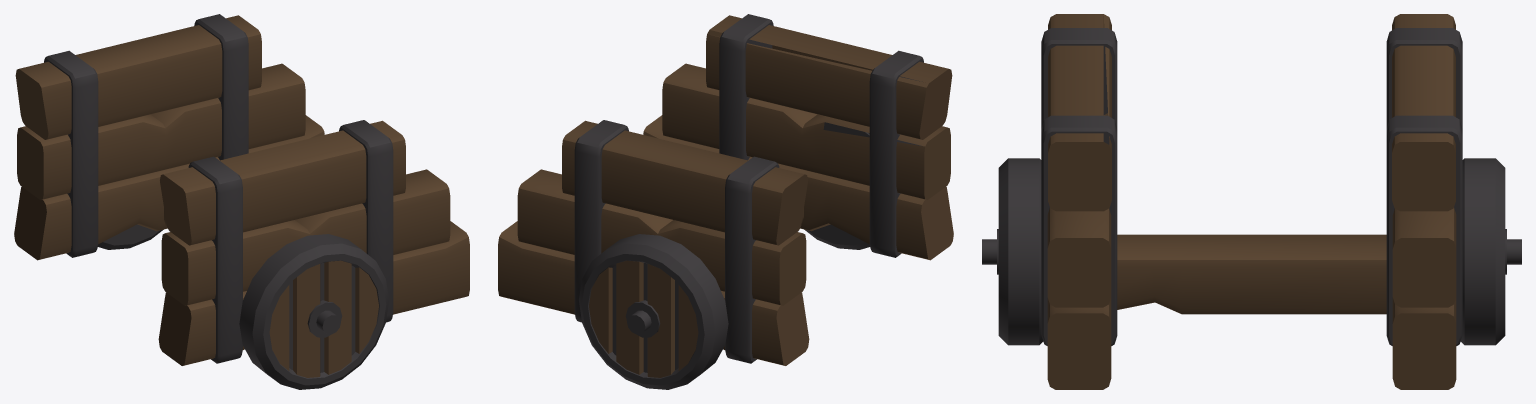
File: cannon-bottom.glb
3 renders of one model, left to right at view 1: azimuth 30°, elevation 25°; view 2: azimuth 150°, elevation 25°; view 3: azimuth 270°, elevation 25°, orthographic. The views are drawn at different scales.
Visible parts, largest first — view 1: Prop_Cannon; view 2: Prop_Cannon; view 3: Prop_Cannon.
Part boxes in pixels (box(x1,y1,x2,y2)): Prop_Cannon: box(14, 14, 469, 389); Prop_Cannon: box(498, 14, 953, 389); Prop_Cannon: box(982, 14, 1521, 389).
Size of the model in its own units: 0.7546 by 0.5505 by 1.04.
Materials: 1 (1 with a texture image).
